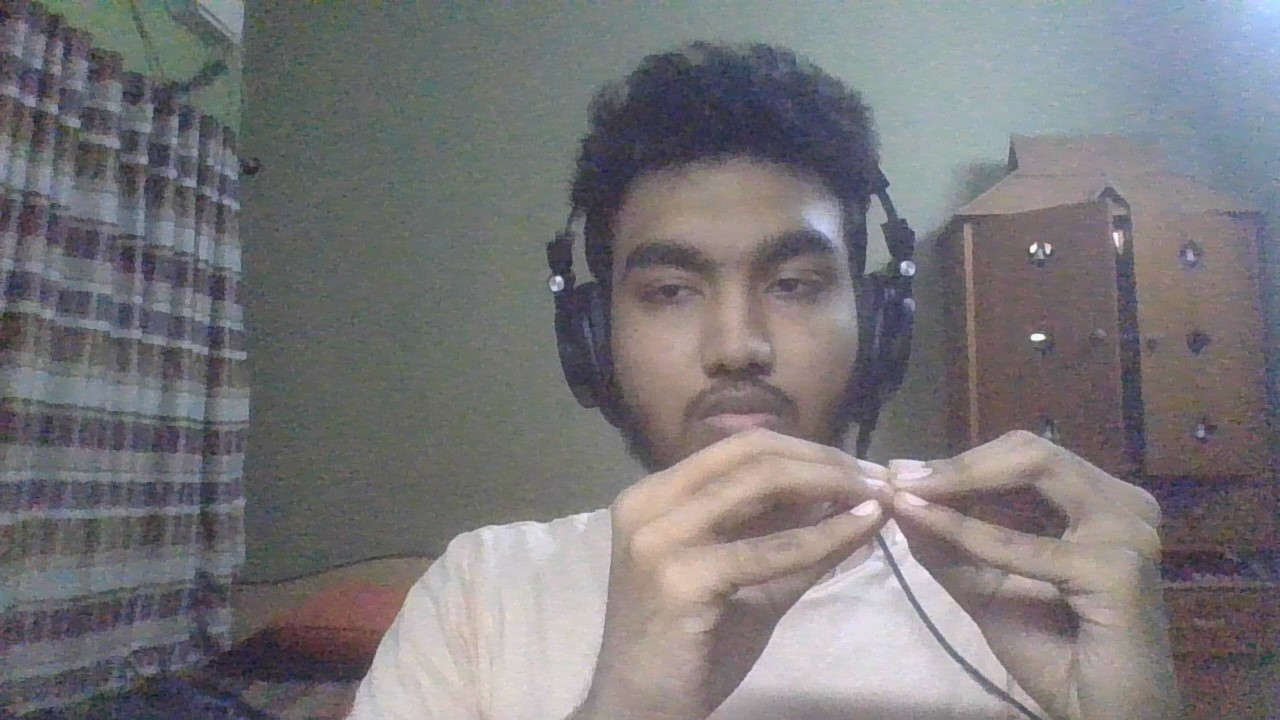More: (588, 424, 1173, 720)
